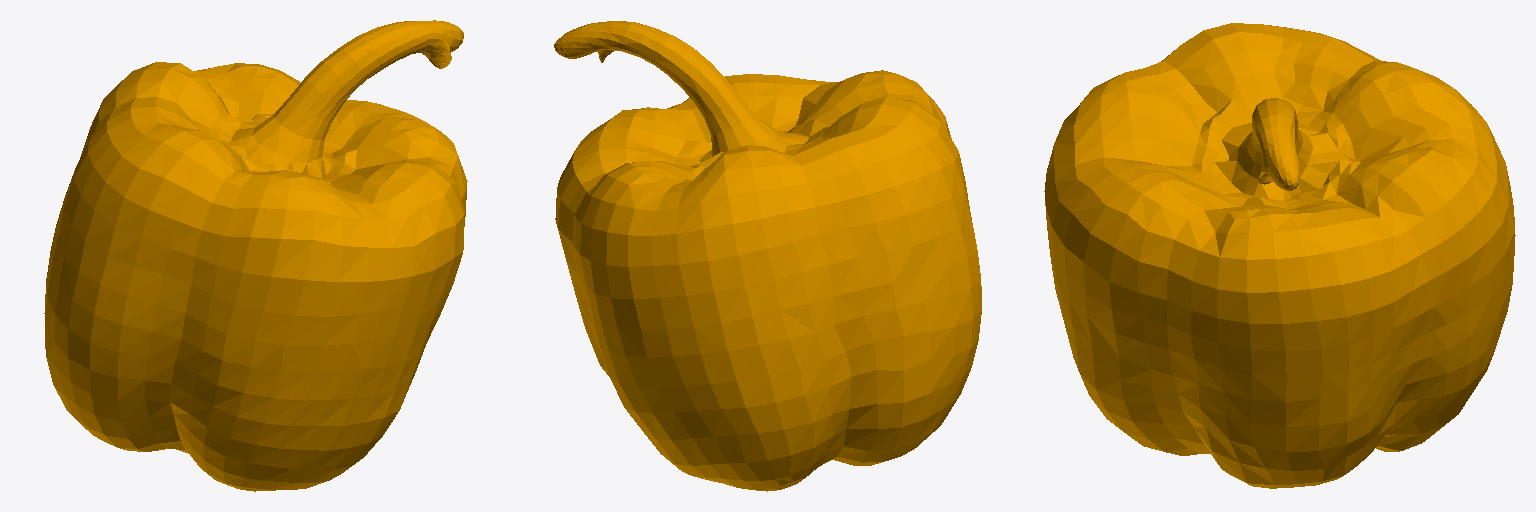
robot.urdf — mesh_object:
<?xml version="1.0" ?>
            <robot name="mesh_object">
            <link name="base">
                <visual>
                    <geometry>
                        <mesh filename="1.obj" scale="1.0 1.0 1.0"/>
                    </geometry>
                </visual>
                <collision>
                    <geometry>
                        <mesh filename="1.obj" scale="1.0 1.0 1.0"/>
                    </geometry>
                </collision>
                <inertial>
                    <origin xyz="0 0 0.049663845" rpy="0 0 0"/>
                    <mass value="0.5"/>
                    <inertia ixx="0.01" iyy="0.01" izz="0.01" ixy="0" ixz="0" iyz="0"/>
                </inertial>
            </link>
            </robot>
        

--- Facts derived from the render (not from the file) ---
The picture shows the robot from 3 angles, left to right: view 1: azimuth 30°, elevation 25°; view 2: azimuth 150°, elevation 25°; view 3: azimuth 270°, elevation 25°; orthographic projection.
Robot: mesh_object — 1 links, 0 joints (none); root link base; default pose: all joints at 0.
Visible links, largest first — view 1: base; view 2: base; view 3: base.
Link boxes in pixels (x1=…): base: x1=44, y1=20, x2=467, y2=491; base: x1=554, y1=21, x2=981, y2=491; base: x1=1044, y1=23, x2=1515, y2=488.
Bounding box of the posed robot: 0.109 × 0.1033 × 0.0993 m (x, y, z).
Meshes: 1 distinct files referenced, 1 mesh visuals loaded (1 OBJ).
